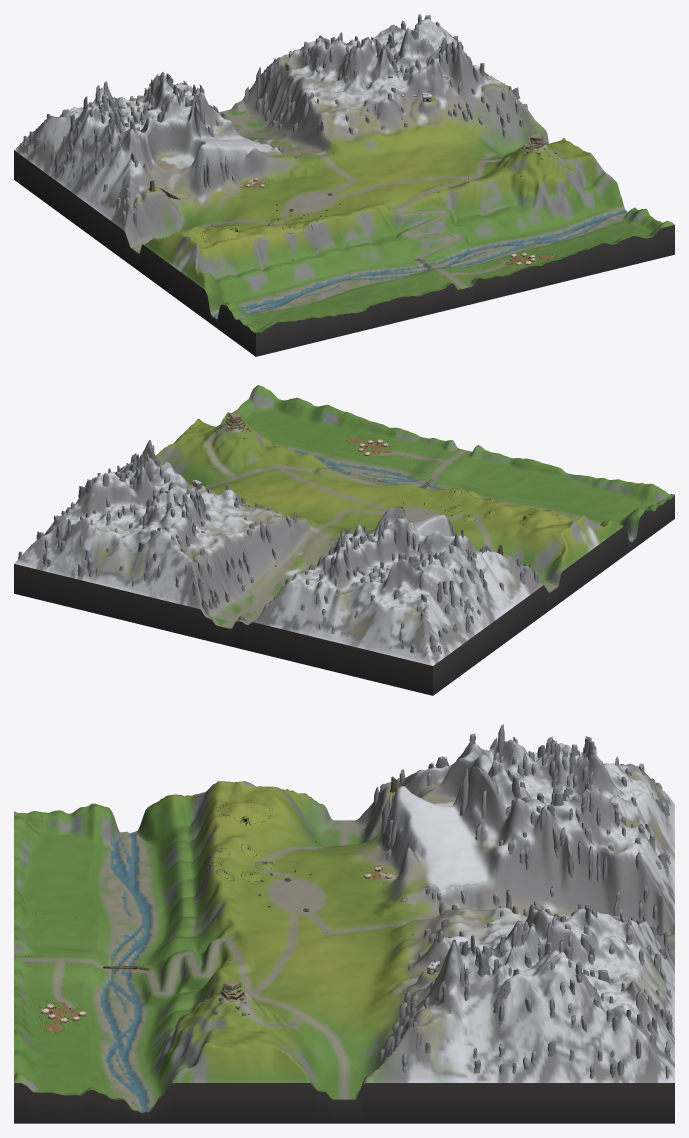
Rendered from near.glb.
The picture shows the model from 3 angles, top to bottom: view 1: azimuth 30°, elevation 25°; view 2: azimuth 150°, elevation 25°; view 3: azimuth 270°, elevation 25°; orthographic projection. The views are drawn at different scales.
Parts seen in each view (by area): view 1: near-placeholder; view 2: near-placeholder; view 3: near-placeholder.
Boxes of the visible parts, x1,y1,x2,y2 form: near-placeholder: (14, 14, 674, 356); near-placeholder: (14, 385, 674, 695); near-placeholder: (14, 724, 674, 1123).
Size of the model in its own units: 500 by 125 by 500.
